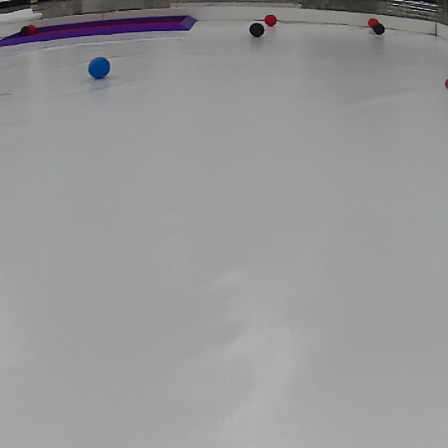black: (251, 26, 267, 36), (374, 26, 385, 34), (20, 26, 29, 33)
blue: (89, 59, 110, 78)
red: (265, 13, 280, 26), (367, 17, 377, 26), (30, 26, 36, 34)
red_aim: (2, 15, 193, 49)
